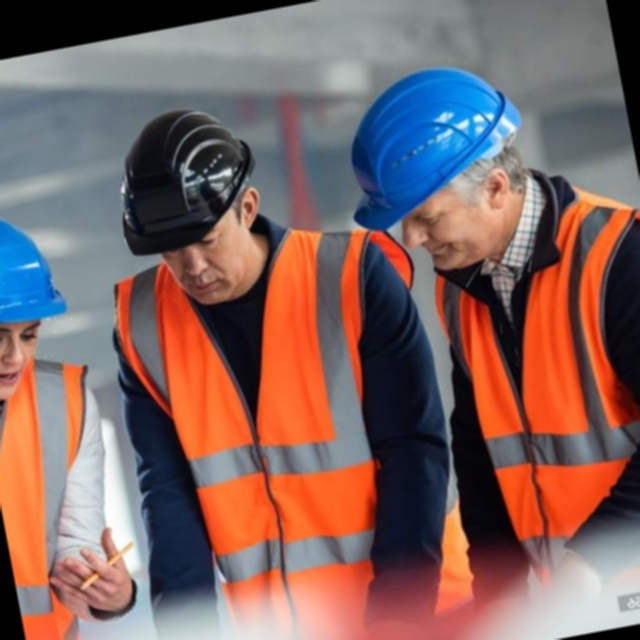Con_Casco: (328, 52, 547, 282)
Con_Chaleco: (110, 227, 444, 640), (424, 186, 640, 607)
